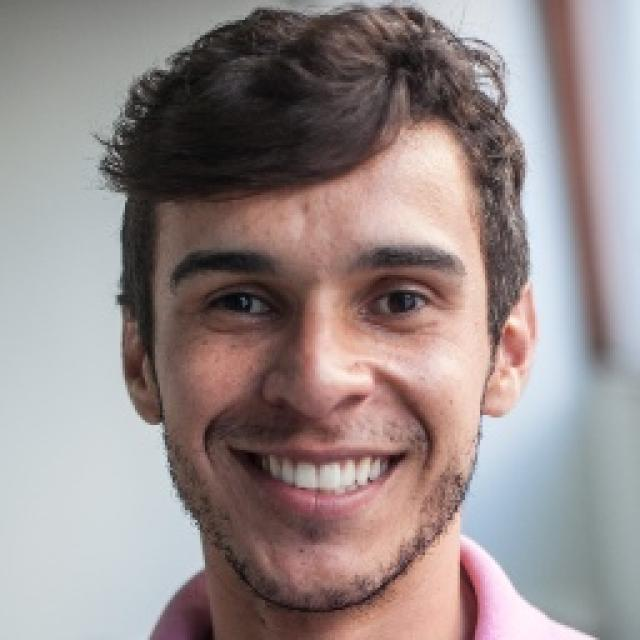earlobe: (481, 278, 538, 419), (119, 299, 163, 428)
